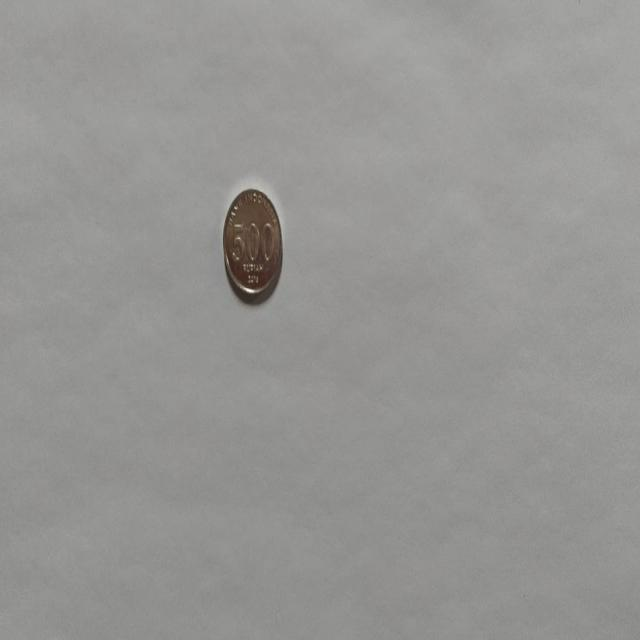lima ratus rupiah: (221, 185, 283, 304)
